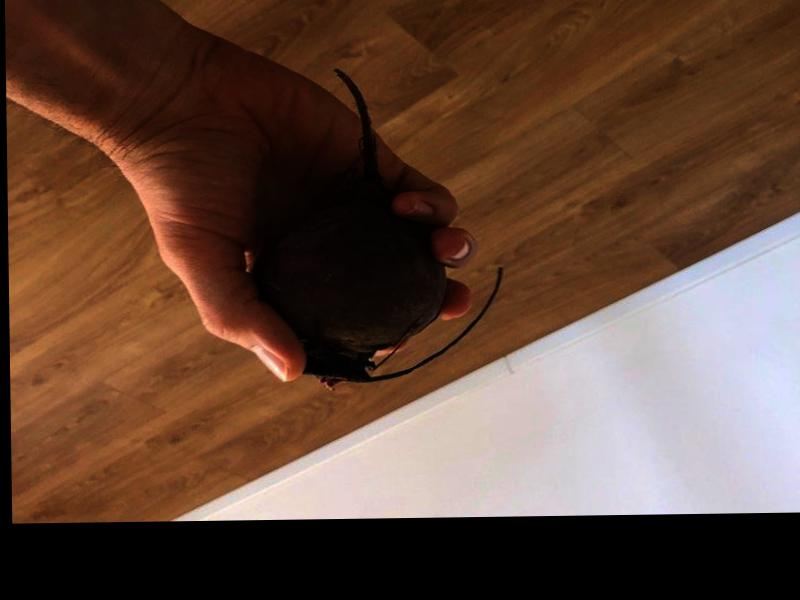Beet: (251, 68, 507, 390)
